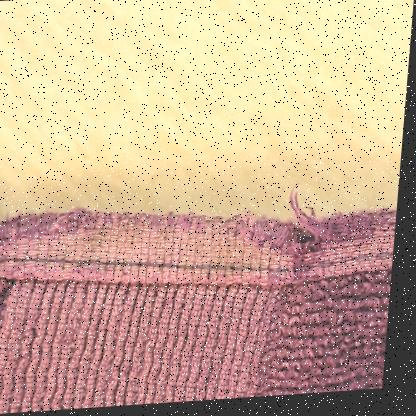spot: (222, 227, 262, 279), (78, 220, 124, 258)
